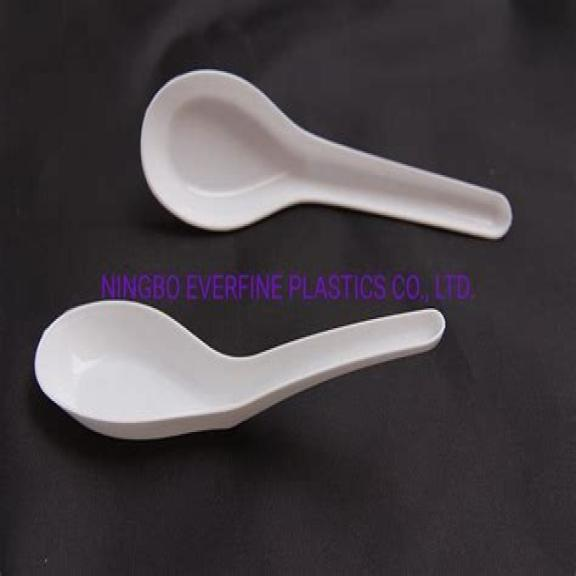Plastik: (141, 70, 511, 238), (36, 301, 444, 439)
